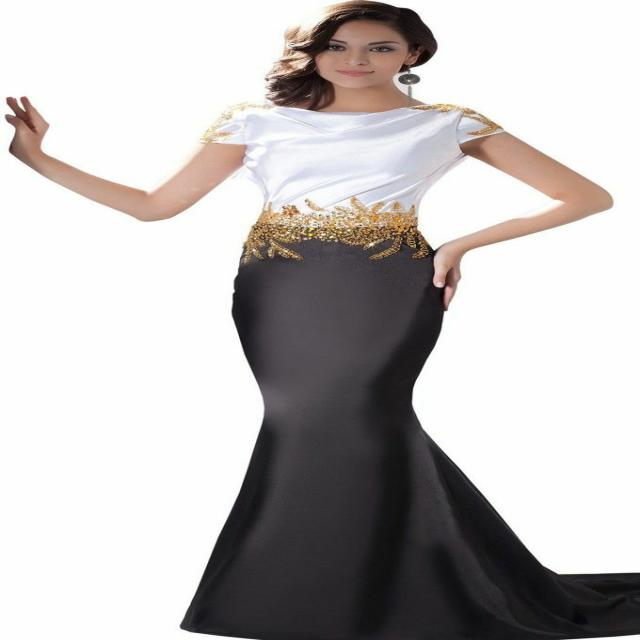female-dress: (205, 101, 640, 638)
